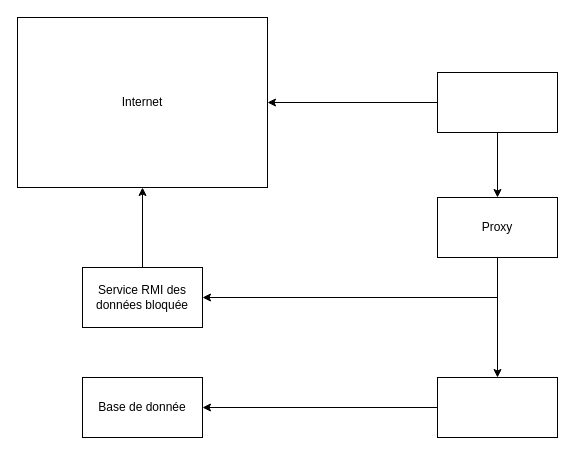
This 575x455 diagram has some shape labels left out. The centre of each missing label's shape, as x and y in pixels:
"Application web" goes at point 497,102.
"Service RMI de base de donnée" goes at point 497,407.
